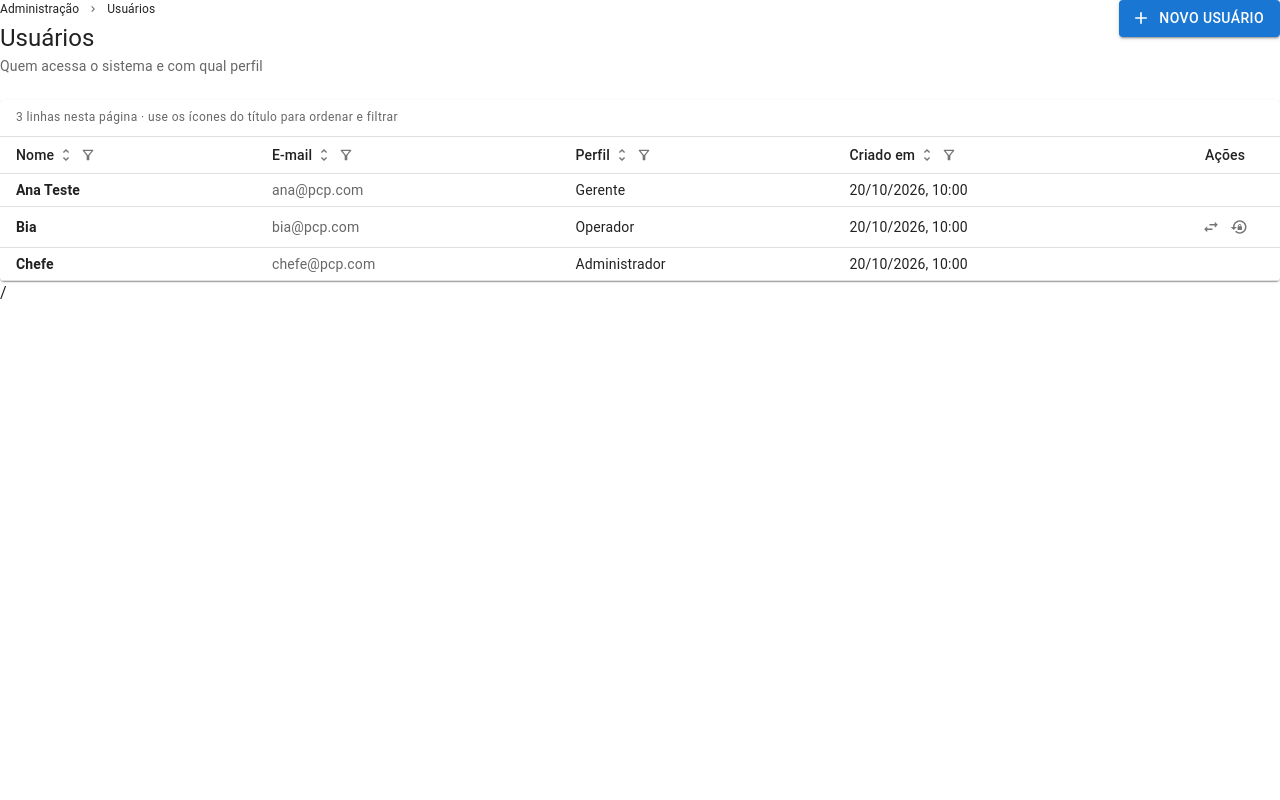
Test: UsuariosAcessoPage › o botão de salvar só vale quando o perfil muda
Click the button named "Alterar o perfil de Bia" at (1211, 227), box [1197,213,1225,241]
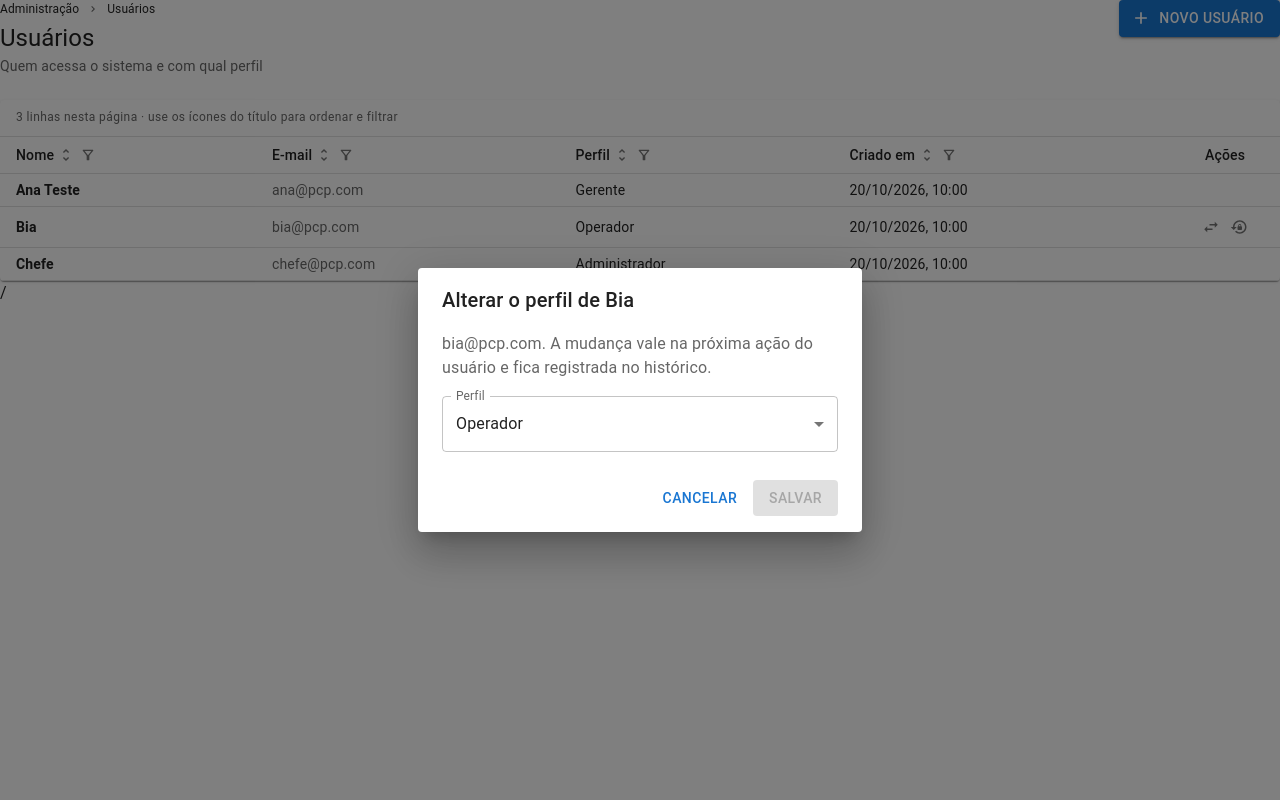
Expected: the button "Salvar" is disabled, [753,480,838,516]
